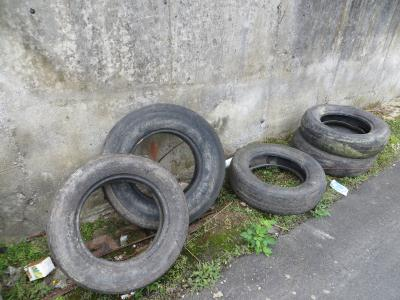tire: (43, 152, 192, 295), (95, 102, 229, 231), (227, 140, 328, 218), (297, 100, 392, 161)
